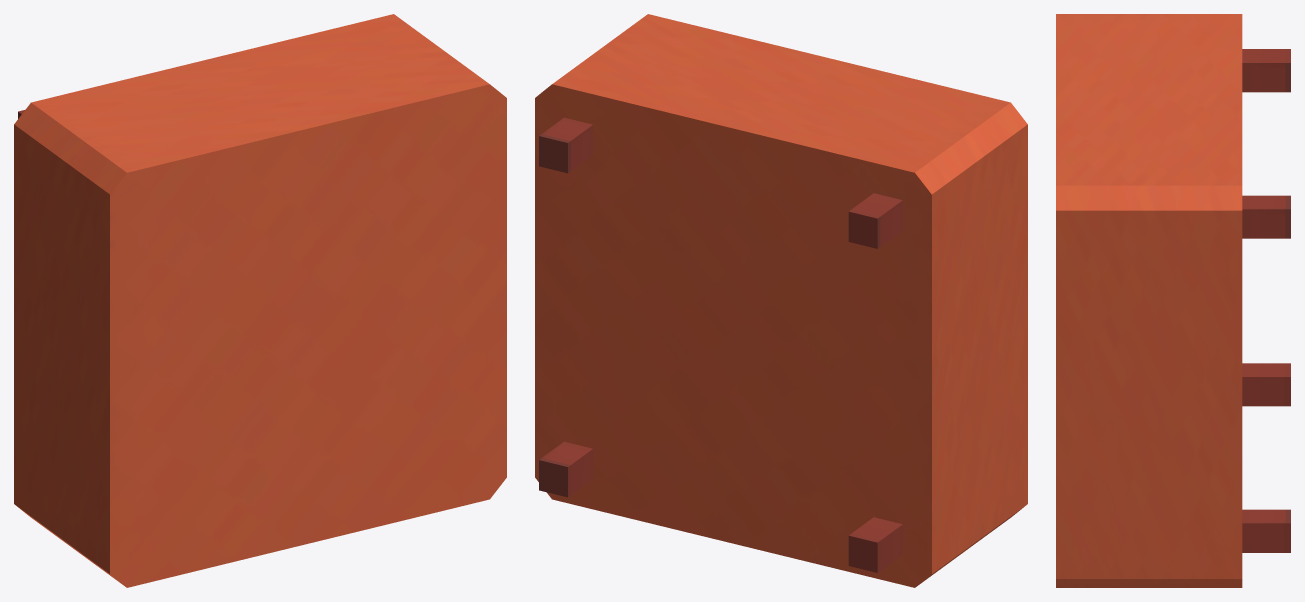
File: pz_benche_seating_indoor_01_orange.obj
3 views of the same model, side by side, from view 1: azimuth 30°, elevation 25°; view 2: azimuth 150°, elevation 25°; view 3: azimuth 270°, elevation 25° (orthographic). The views are drawn at different scales.
Bounding box in the file's own units: 0.82 × 0.82 × 0.4338.
1 material, 1 textured.
